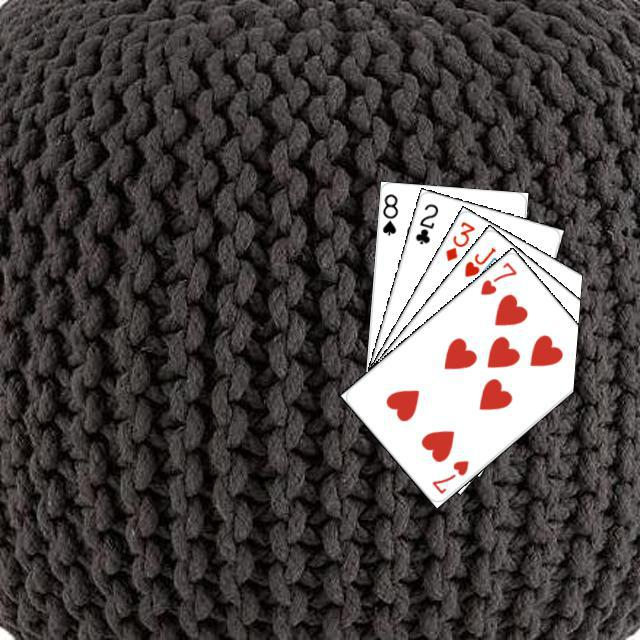2c: (410, 199, 440, 246)
3d: (441, 216, 477, 263)
7h: (427, 455, 471, 496), (475, 257, 519, 297)
8s: (377, 189, 400, 237)
Jh: (459, 242, 498, 279)
